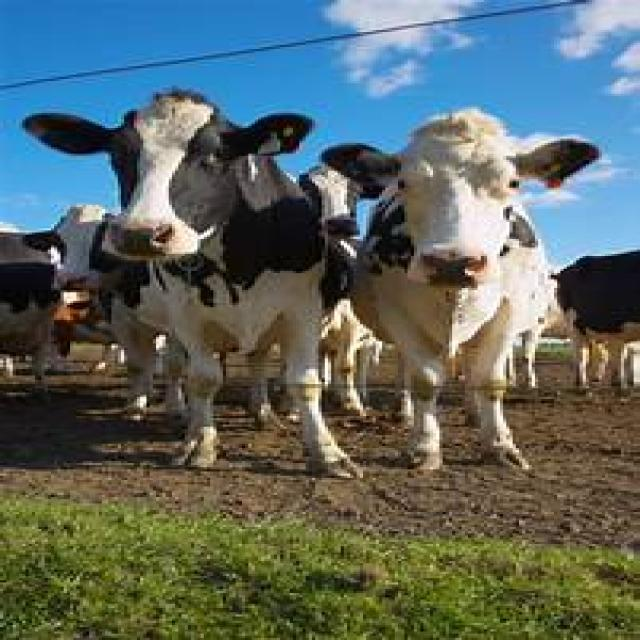cow: (34, 56, 310, 522), (325, 100, 590, 525)
